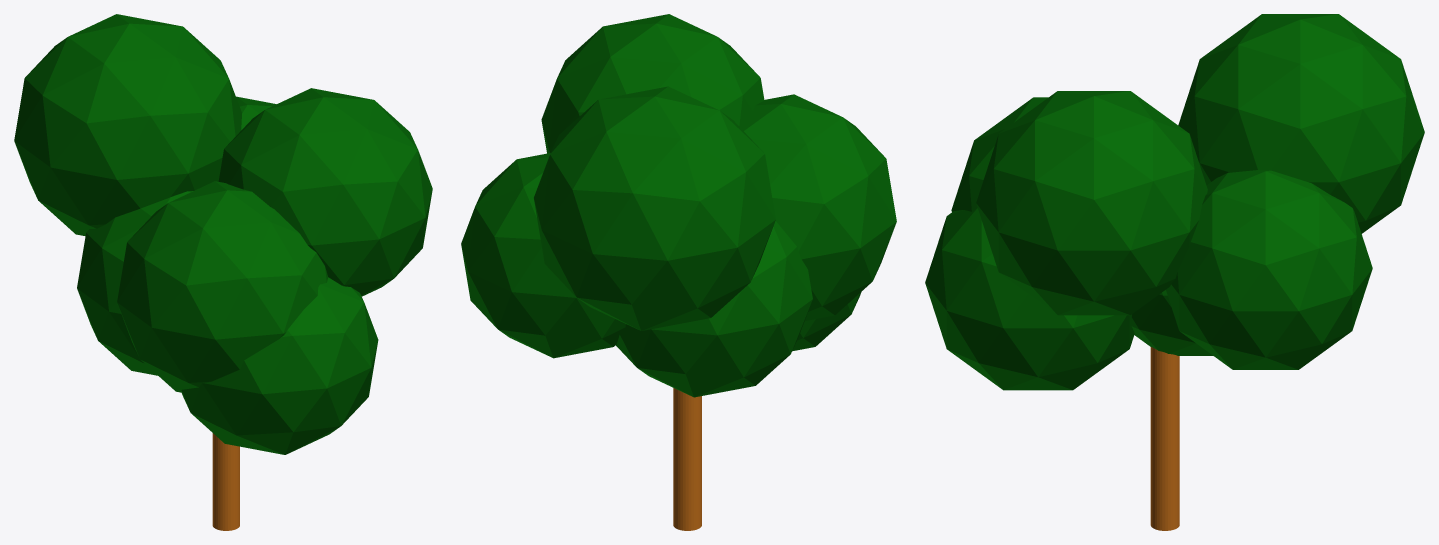
File: Tree_2.fbx
3 renders of one model, left to right at view 1: azimuth 30°, elevation 25°; view 2: azimuth 150°, elevation 25°; view 3: azimuth 270°, elevation 25°, orthographic. The views are drawn at different scales.
Visible parts, largest first — view 1: Cylinder.033; view 2: Cylinder.033; view 3: Cylinder.033.
Part boxes in pixels (x1,y1,x2,y2): Cylinder.033: [14, 14, 432, 530]; Cylinder.033: [461, 14, 896, 530]; Cylinder.033: [925, 14, 1424, 530].
Bounding box in the file's own units: 439 × 663 × 615.
